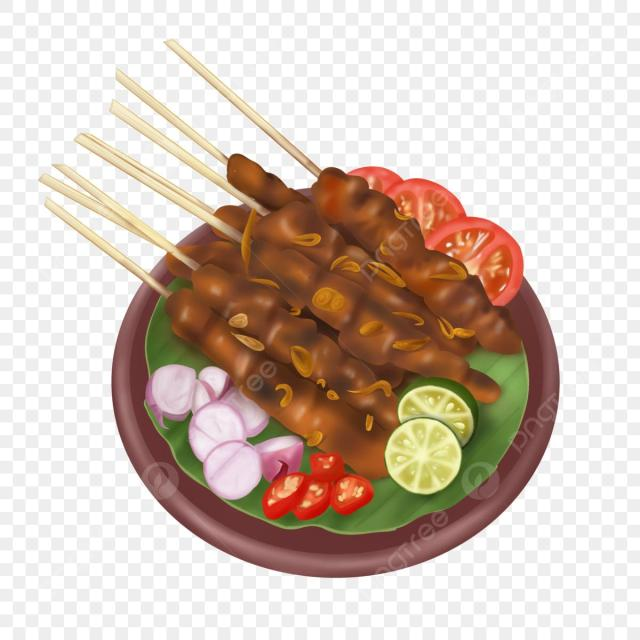Sate: (88, 145, 506, 472)
